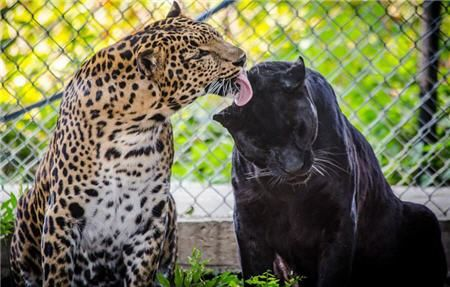leopard: (8, 2, 253, 287)
panther: (212, 62, 450, 285)
